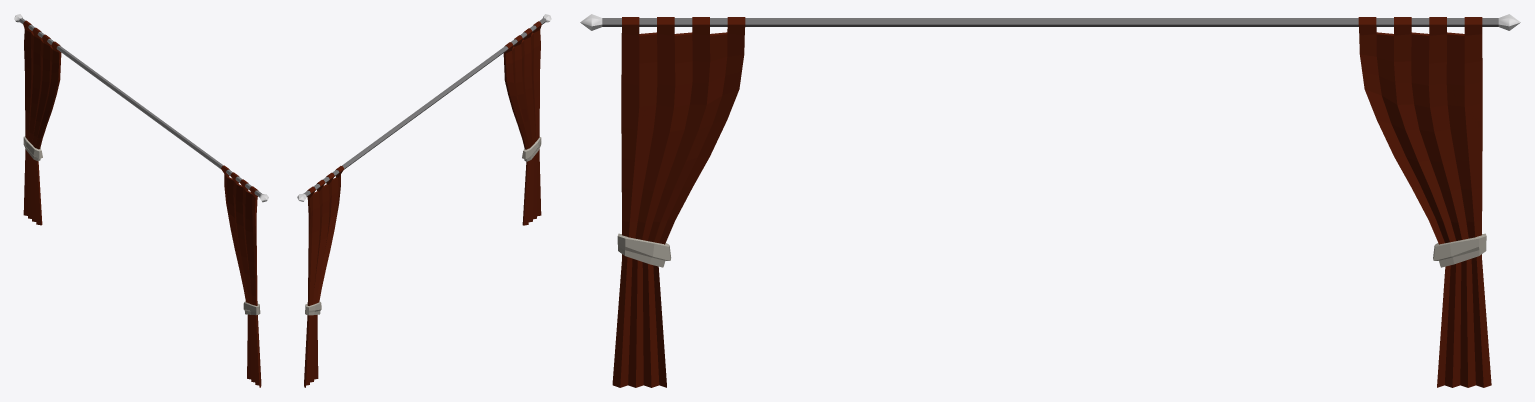
File: SM_curtains_04.glb
The picture shows the model from 3 angles, left to right: view 1: azimuth 30°, elevation 25°; view 2: azimuth 150°, elevation 25°; view 3: azimuth 270°, elevation 25°; orthographic projection. The views are drawn at different scales.
Visible parts, largest first — view 1: SM_curtains_04; view 2: SM_curtains_04; view 3: SM_curtains_04.
Boxes of the visible parts, x1=… form: SM_curtains_04: x1=14, y1=14, x2=268, y2=387; SM_curtains_04: x1=297, y1=14, x2=551, y2=387; SM_curtains_04: x1=580, y1=14, x2=1520, y2=387.
Size of the model in its own units: 0.1373 by 2.63 by 6.09.
Materials: 2 (1 with a texture image).
